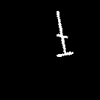double_crochet: (57, 11, 72, 56)
